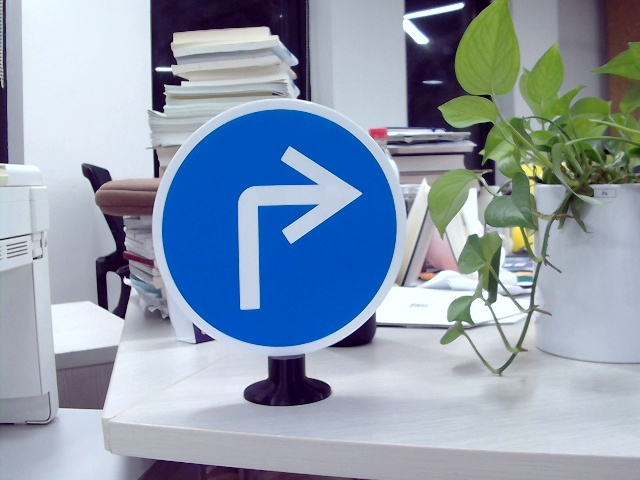turn_right: (219, 140, 362, 316)
